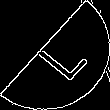L_NW: (24, 27, 86, 83)
